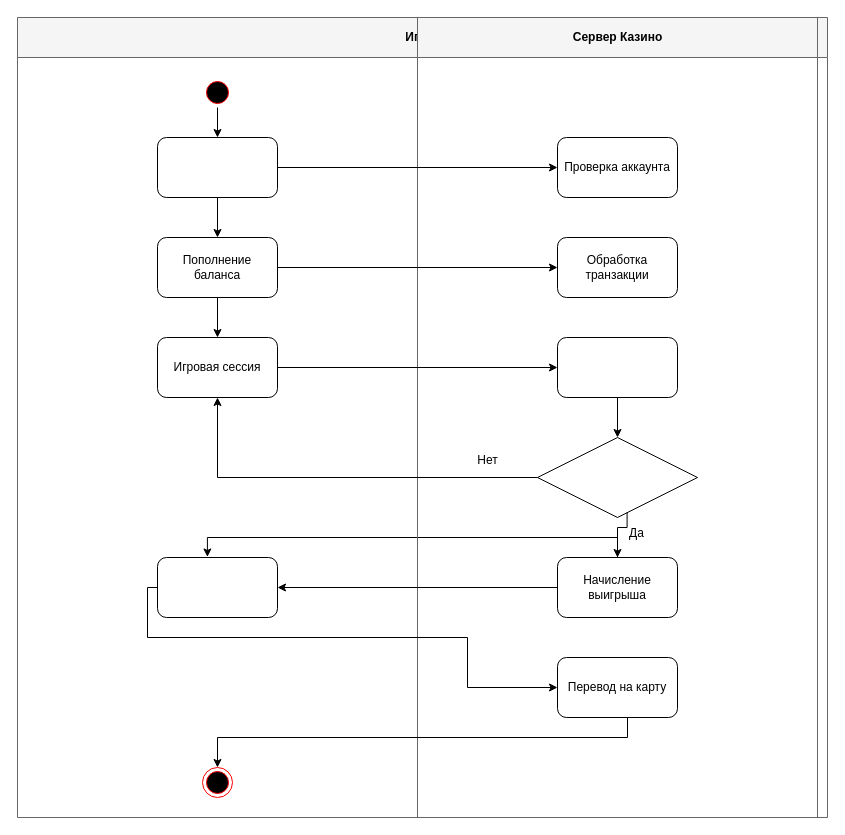
Some shapes in this 845 by 835 pixel diagram are drawn without their labels. Here are the shapes that lost their labels. From the top down, the centre of each, then its label:
[217,167]: Вход в систему
[617,367]: Генерация раунда (RNG)
[617,477]: Выпал выигрыш?
[217,587]: Запрос вывода
